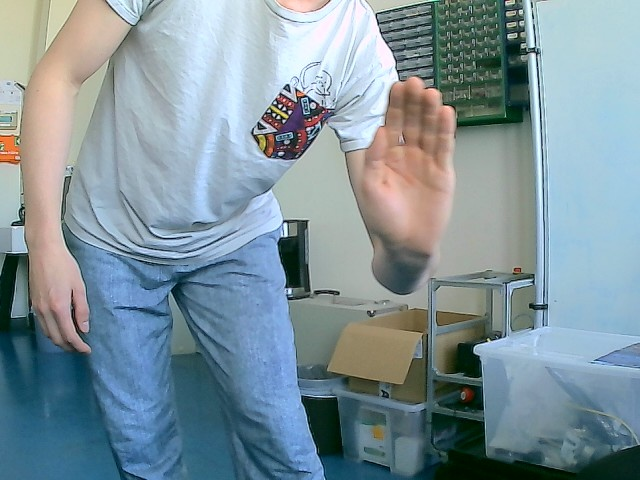no_gesture: (27, 241, 94, 353)
stop: (354, 75, 458, 258)
